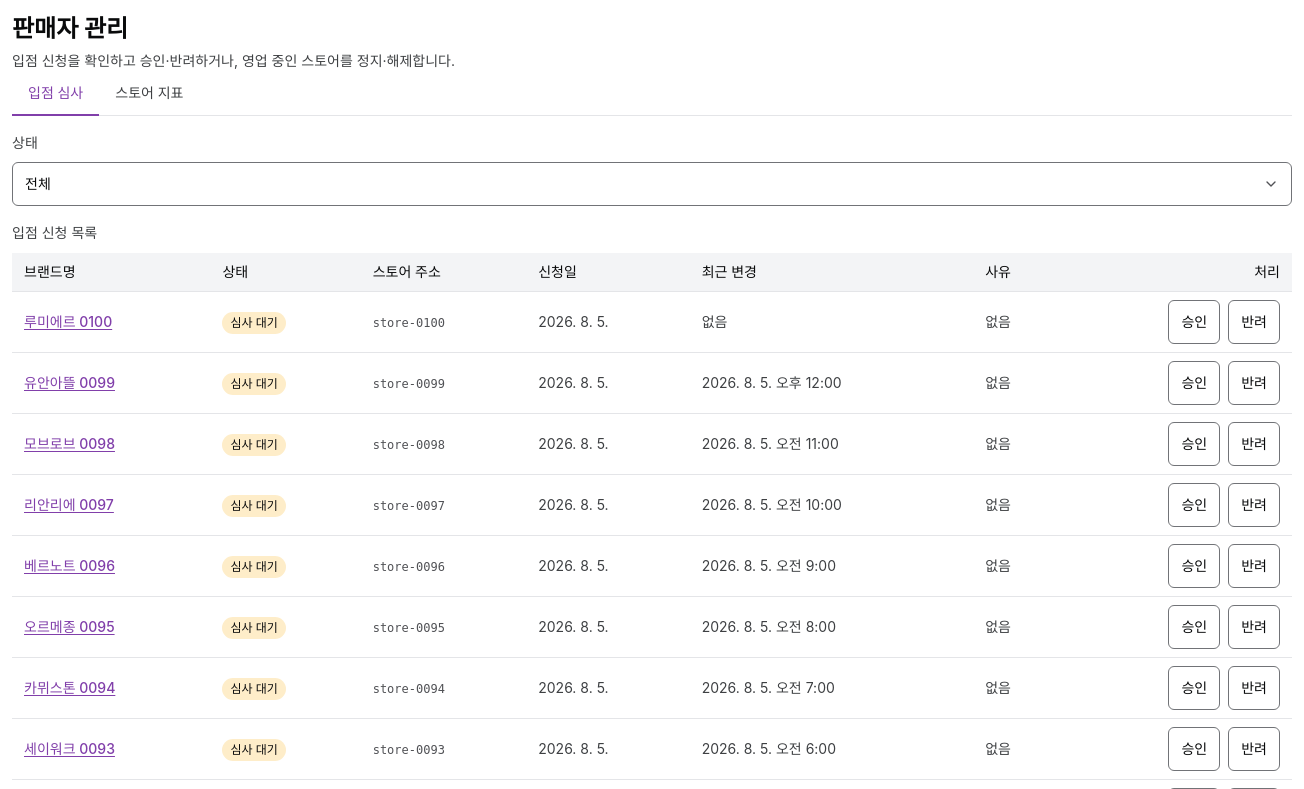
Test: 지표 (F1) › shows sales, the claim rate and the rating for a store that has traded
Click the tab "스토어 지표".
click(149, 94)  # box [99,72,199,116]
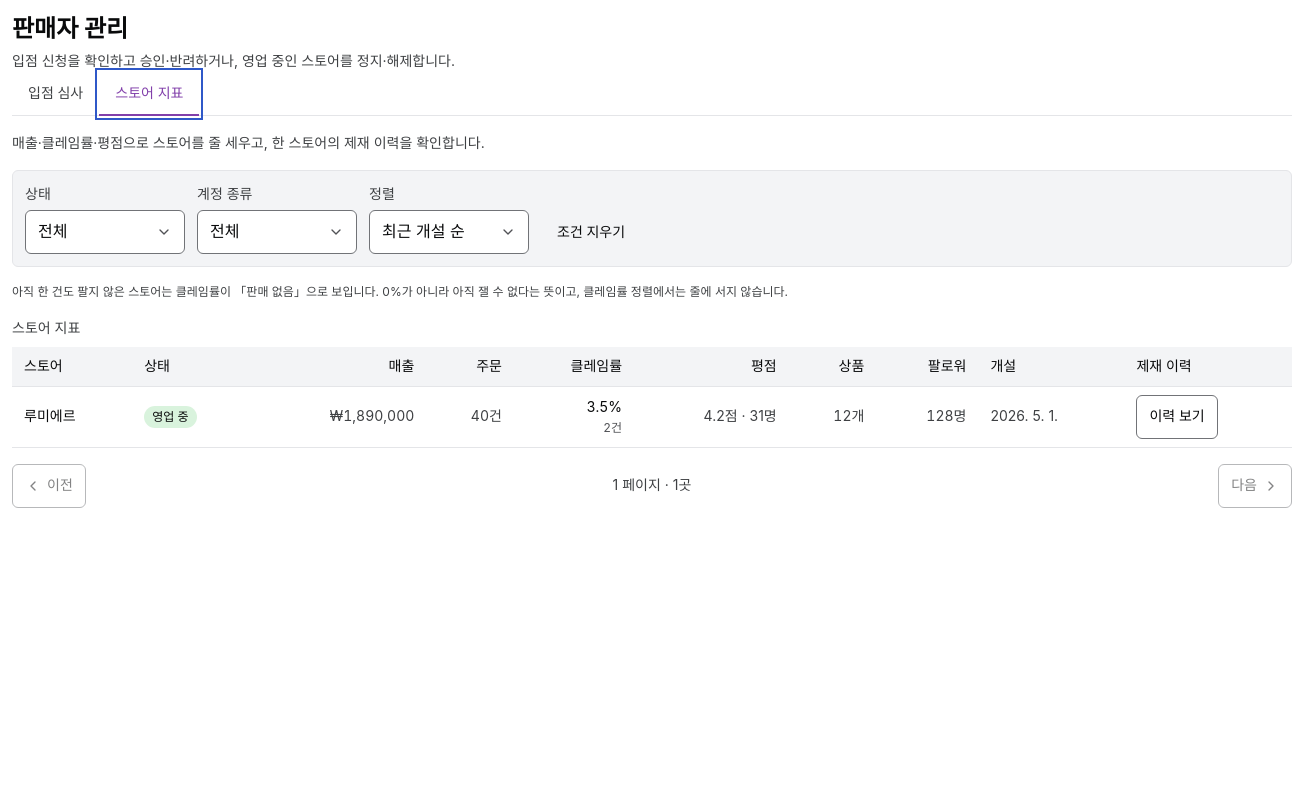
expect the table "스토어 지표" is shown: met, box [12,317,1292,448]
expect the text "₩1,890,000" is shown: met, box [254,386,426,448]
expect the text "3.5%" is shown: met, box [586,396,622,419]
